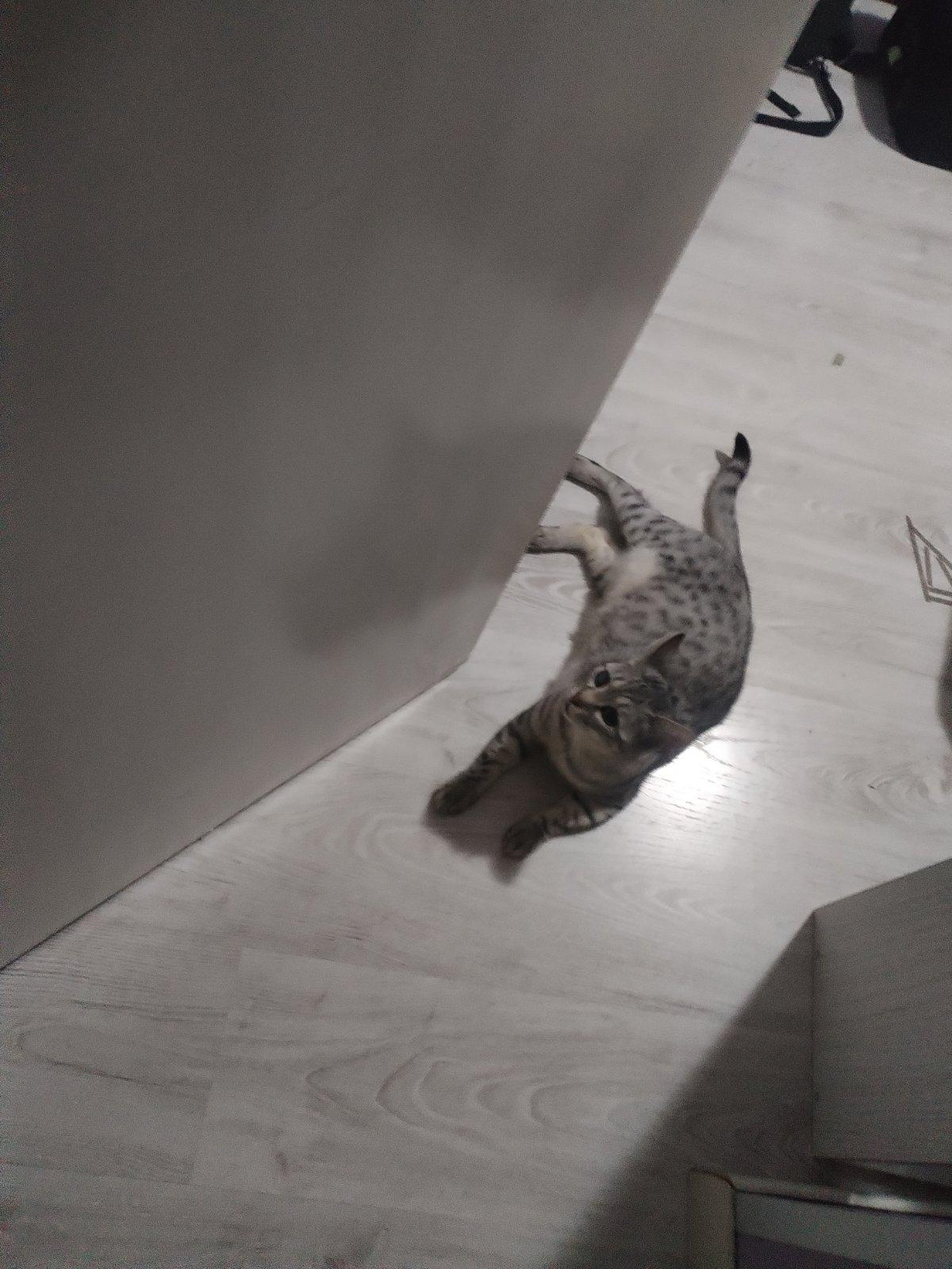macka: (430, 436, 756, 858)
